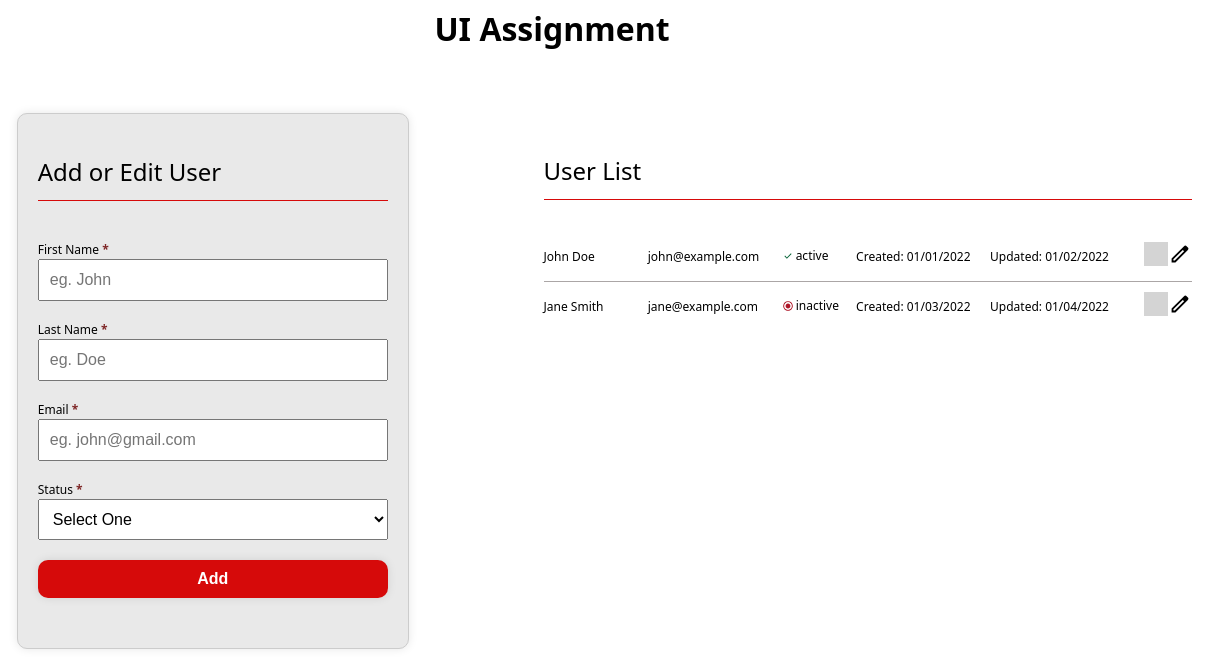
Test: App Component › edits an existing user
The width and height of the screenshot is (1209, 667).
Check: the text "John Doe" is shown, box [544, 248, 595, 265]
Click edit button for first user
Click the 2nd button with alt text "Edit": (1180, 256) [1168, 242, 1192, 269]
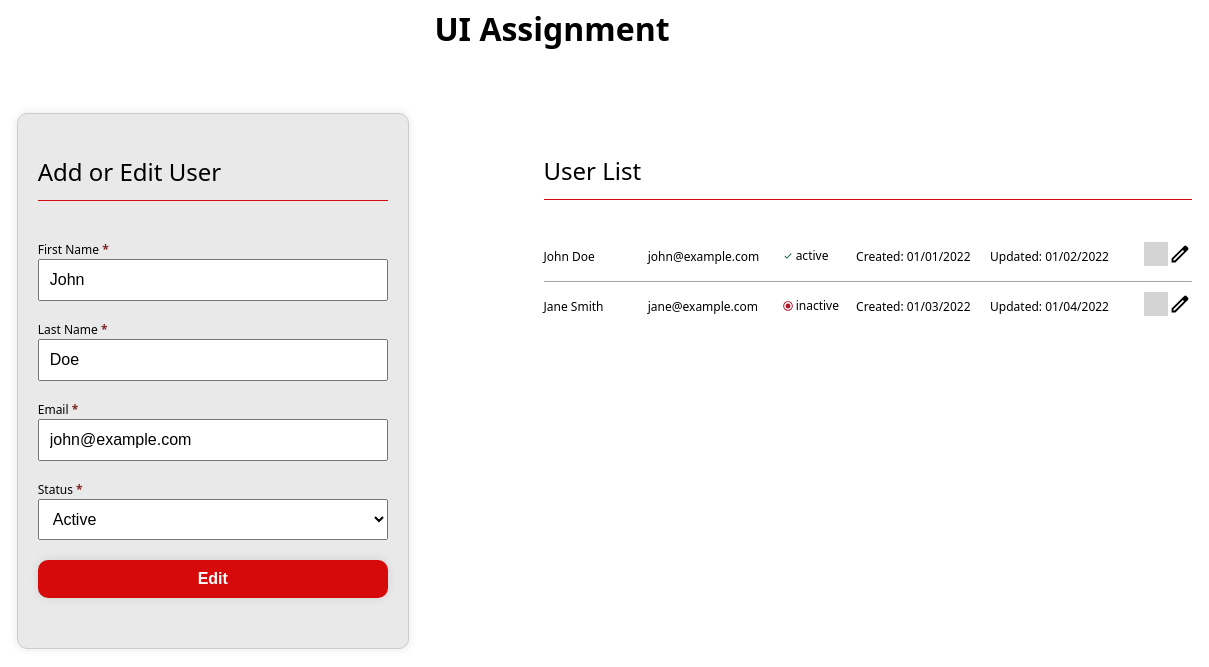
Change status to inactive and submit form
Select "Inactive" in the dropdown: (213, 520) [38, 499, 388, 540]
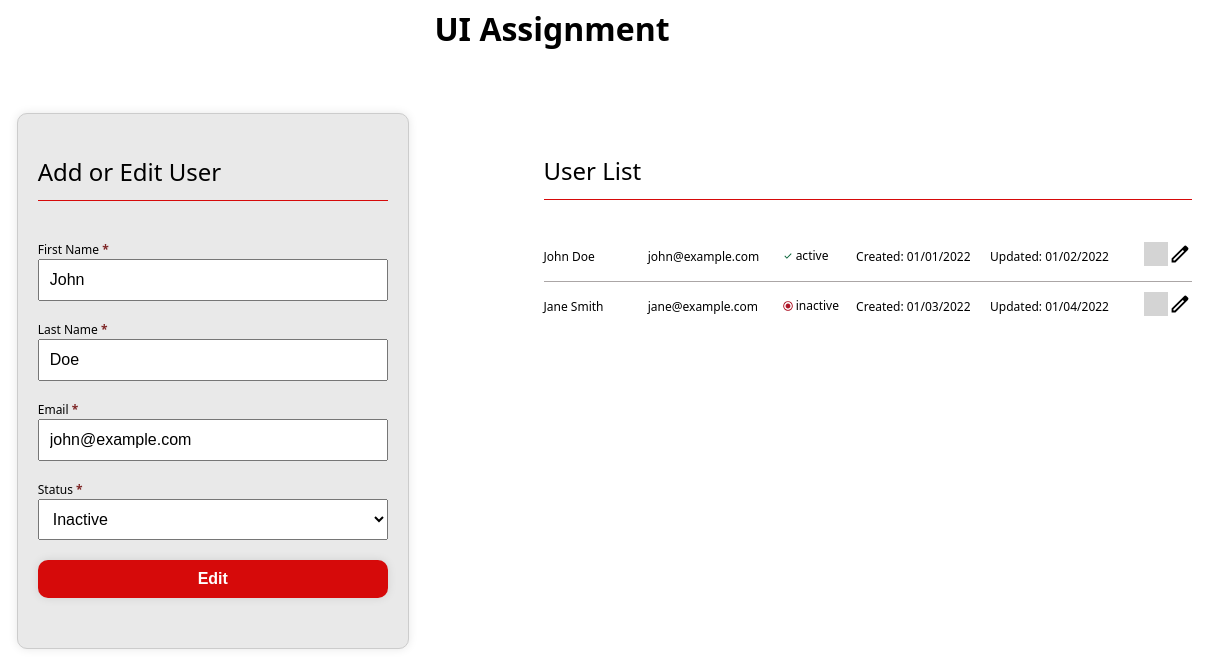
Click the button "Edit": (213, 579) [38, 560, 388, 598]
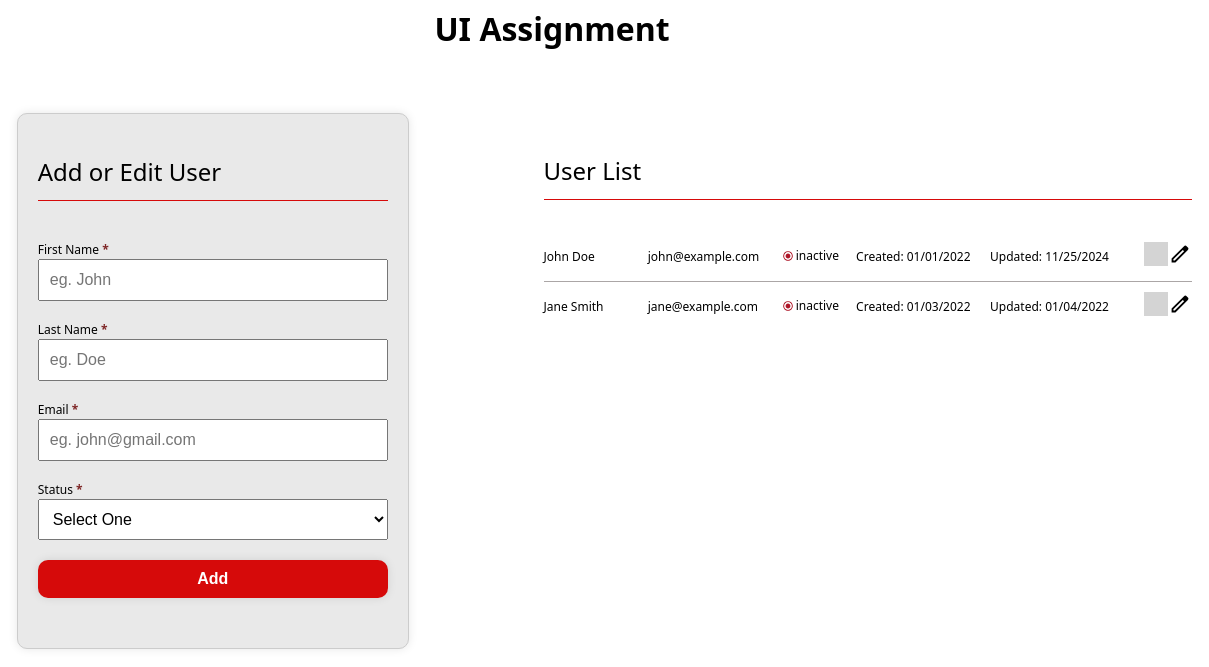
Check: the text "John Doe" is shown, box [544, 248, 595, 265]
Check: the text "inactive" next to "john@example.com" is shown, box [796, 247, 839, 264]
